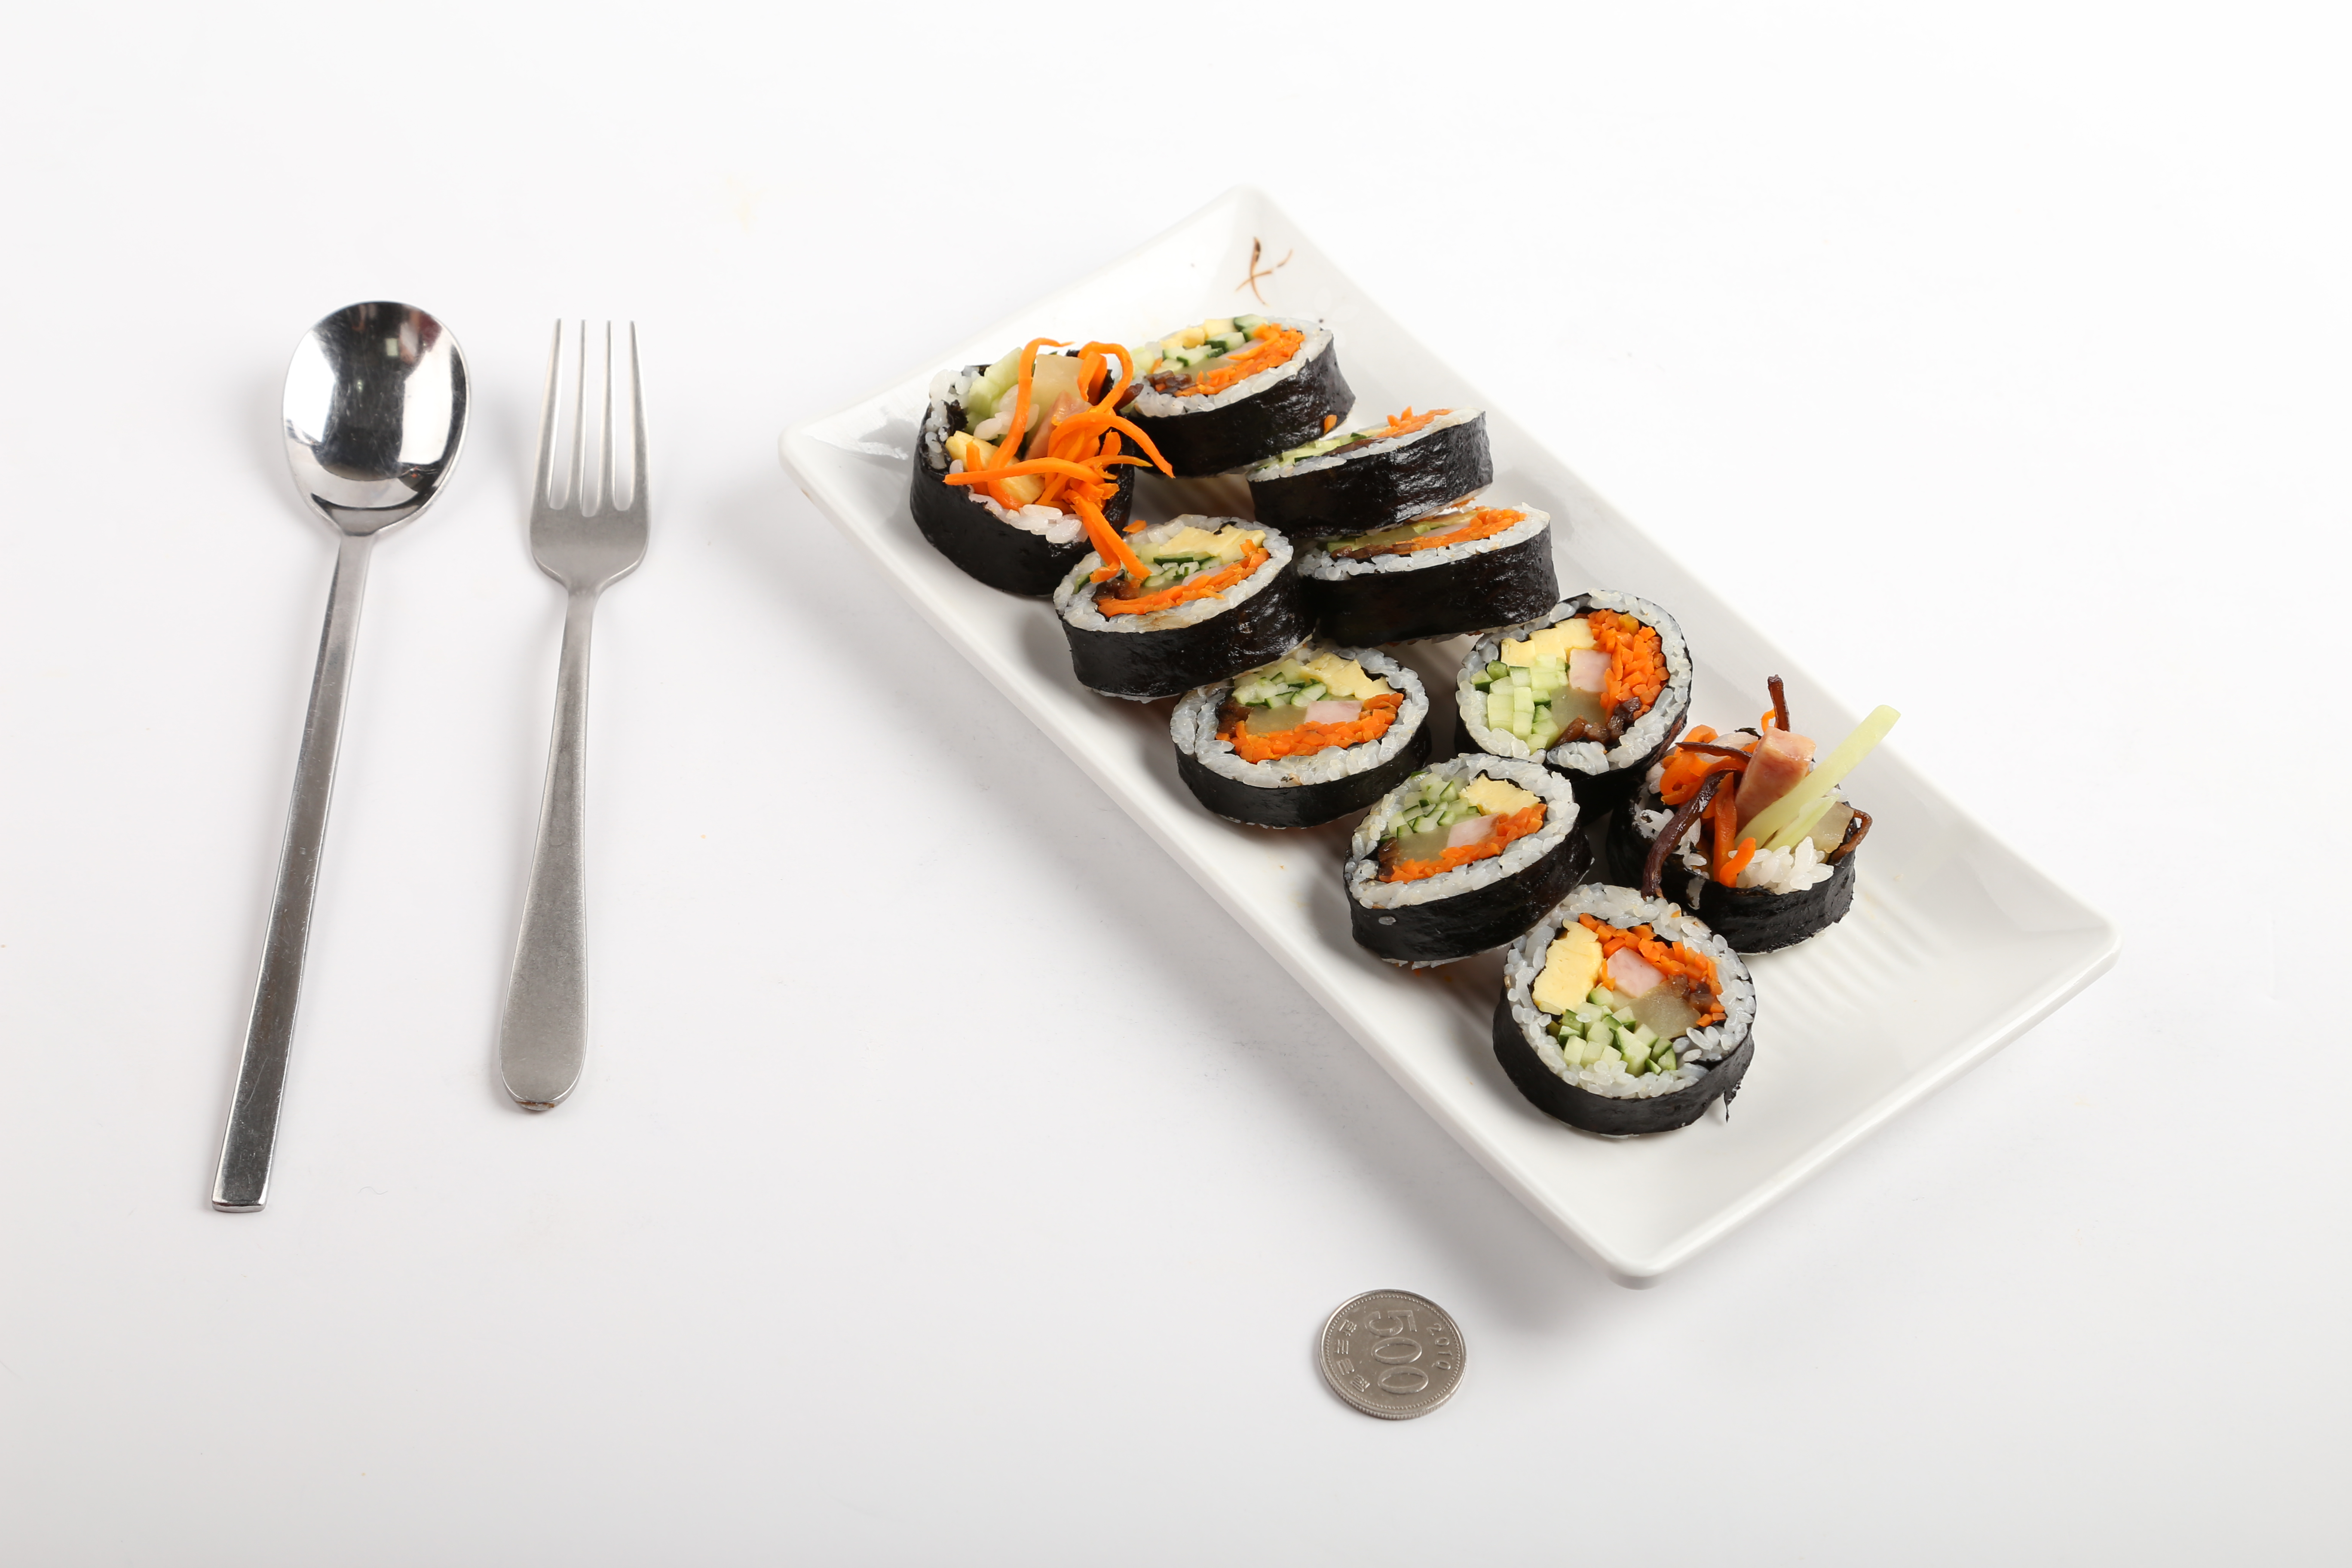dish: (784, 185, 2128, 1288)
ref_coin: (1311, 1279, 1472, 1426)
ref_fork: (521, 311, 658, 637)
ref_spoon: (275, 294, 472, 583)
김밥: (905, 310, 1858, 1141)
